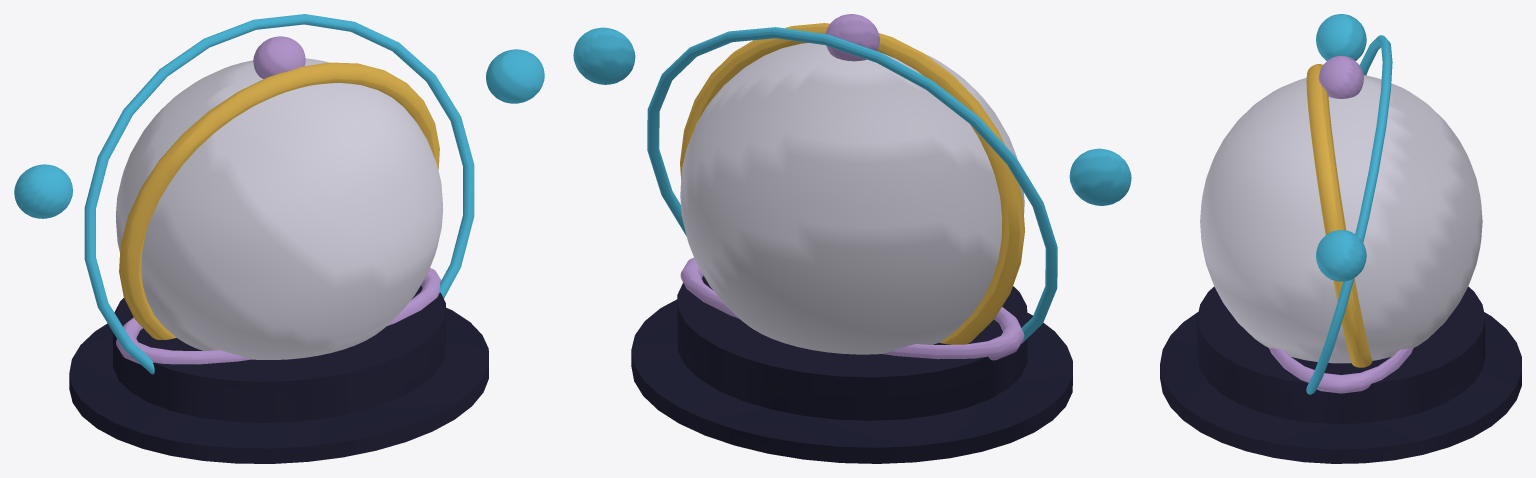
File: 0036_天文图鉴_金星.glb
The picture shows the model from 3 angles, left to right: view 1: azimuth 30°, elevation 25°; view 2: azimuth 150°, elevation 25°; view 3: azimuth 270°, elevation 25°; orthographic projection. The views are drawn at different scales.
Parts seen in each view (by area): view 1: card_0036; view 2: card_0036; view 3: card_0036.
Part boxes in pixels (<box>): card_0036: <box>14,14,544,463</box>; card_0036: <box>573,14,1131,463</box>; card_0036: <box>1160,14,1521,463</box>.
Size of the model in its own units: 1.58 by 1 by 1.01.
